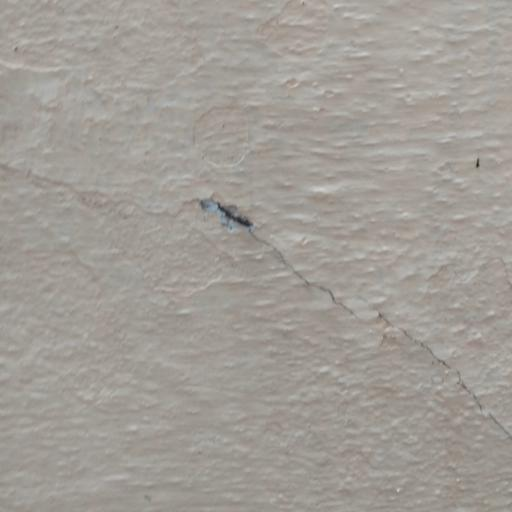minor_crack: (3, 138, 512, 452)
